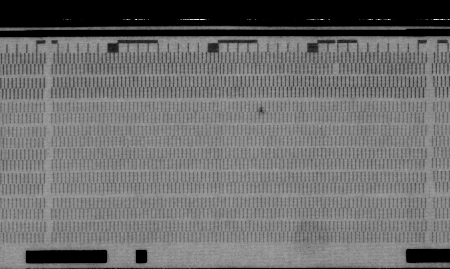Broken hole: (330, 63, 341, 76)
